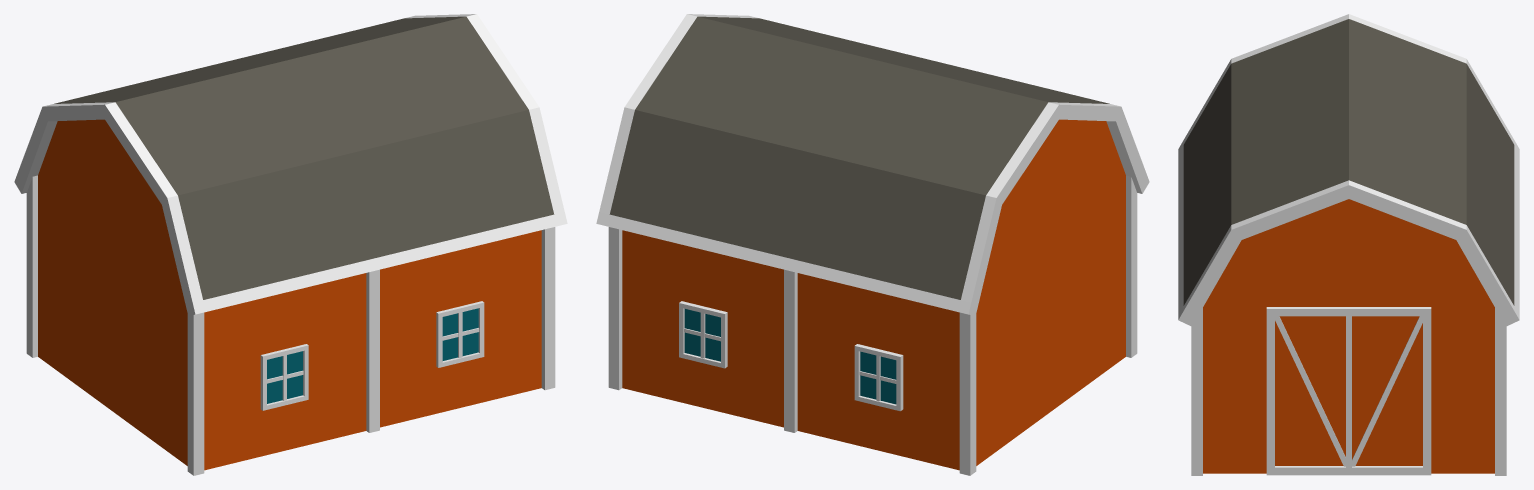
File: FarmBarn.fbx
The picture shows the model from 3 angles, left to right: view 1: azimuth 30°, elevation 25°; view 2: azimuth 150°, elevation 25°; view 3: azimuth 270°, elevation 25°; orthographic projection. The views are drawn at different scales.
Visible parts, largest first — view 1: FarmBarn; view 2: FarmBarn; view 3: FarmBarn.
Boxes of the visible parts, bbox=[...] form: FarmBarn: bbox=[14, 14, 567, 475]; FarmBarn: bbox=[596, 14, 1149, 475]; FarmBarn: bbox=[1178, 14, 1519, 475].
Bounding box in the file's own units: 1.06 × 0.8459 × 0.8921.
